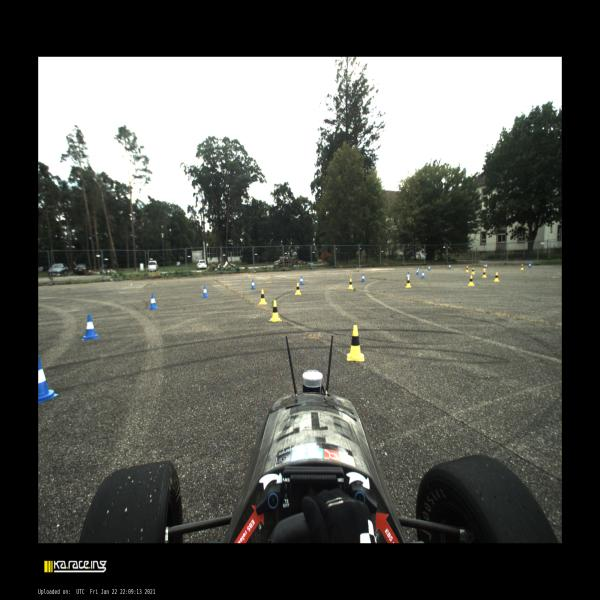blue_cone: (38, 355, 59, 404), (82, 314, 99, 341), (148, 294, 159, 309), (202, 286, 208, 298), (405, 272, 411, 281), (299, 276, 304, 285), (361, 274, 366, 282), (251, 280, 255, 289), (421, 271, 425, 278), (528, 262, 531, 268), (416, 266, 419, 272), (416, 269, 419, 274), (448, 264, 451, 269), (428, 265, 430, 270), (485, 263, 487, 268)
yellow_cone: (347, 325, 364, 361), (269, 300, 282, 321), (258, 289, 267, 305), (295, 282, 301, 295), (468, 275, 475, 286), (406, 277, 412, 288), (348, 278, 353, 290), (494, 272, 499, 282), (482, 268, 486, 278), (471, 267, 475, 274), (465, 265, 469, 272), (520, 264, 524, 270), (483, 264, 486, 271)
